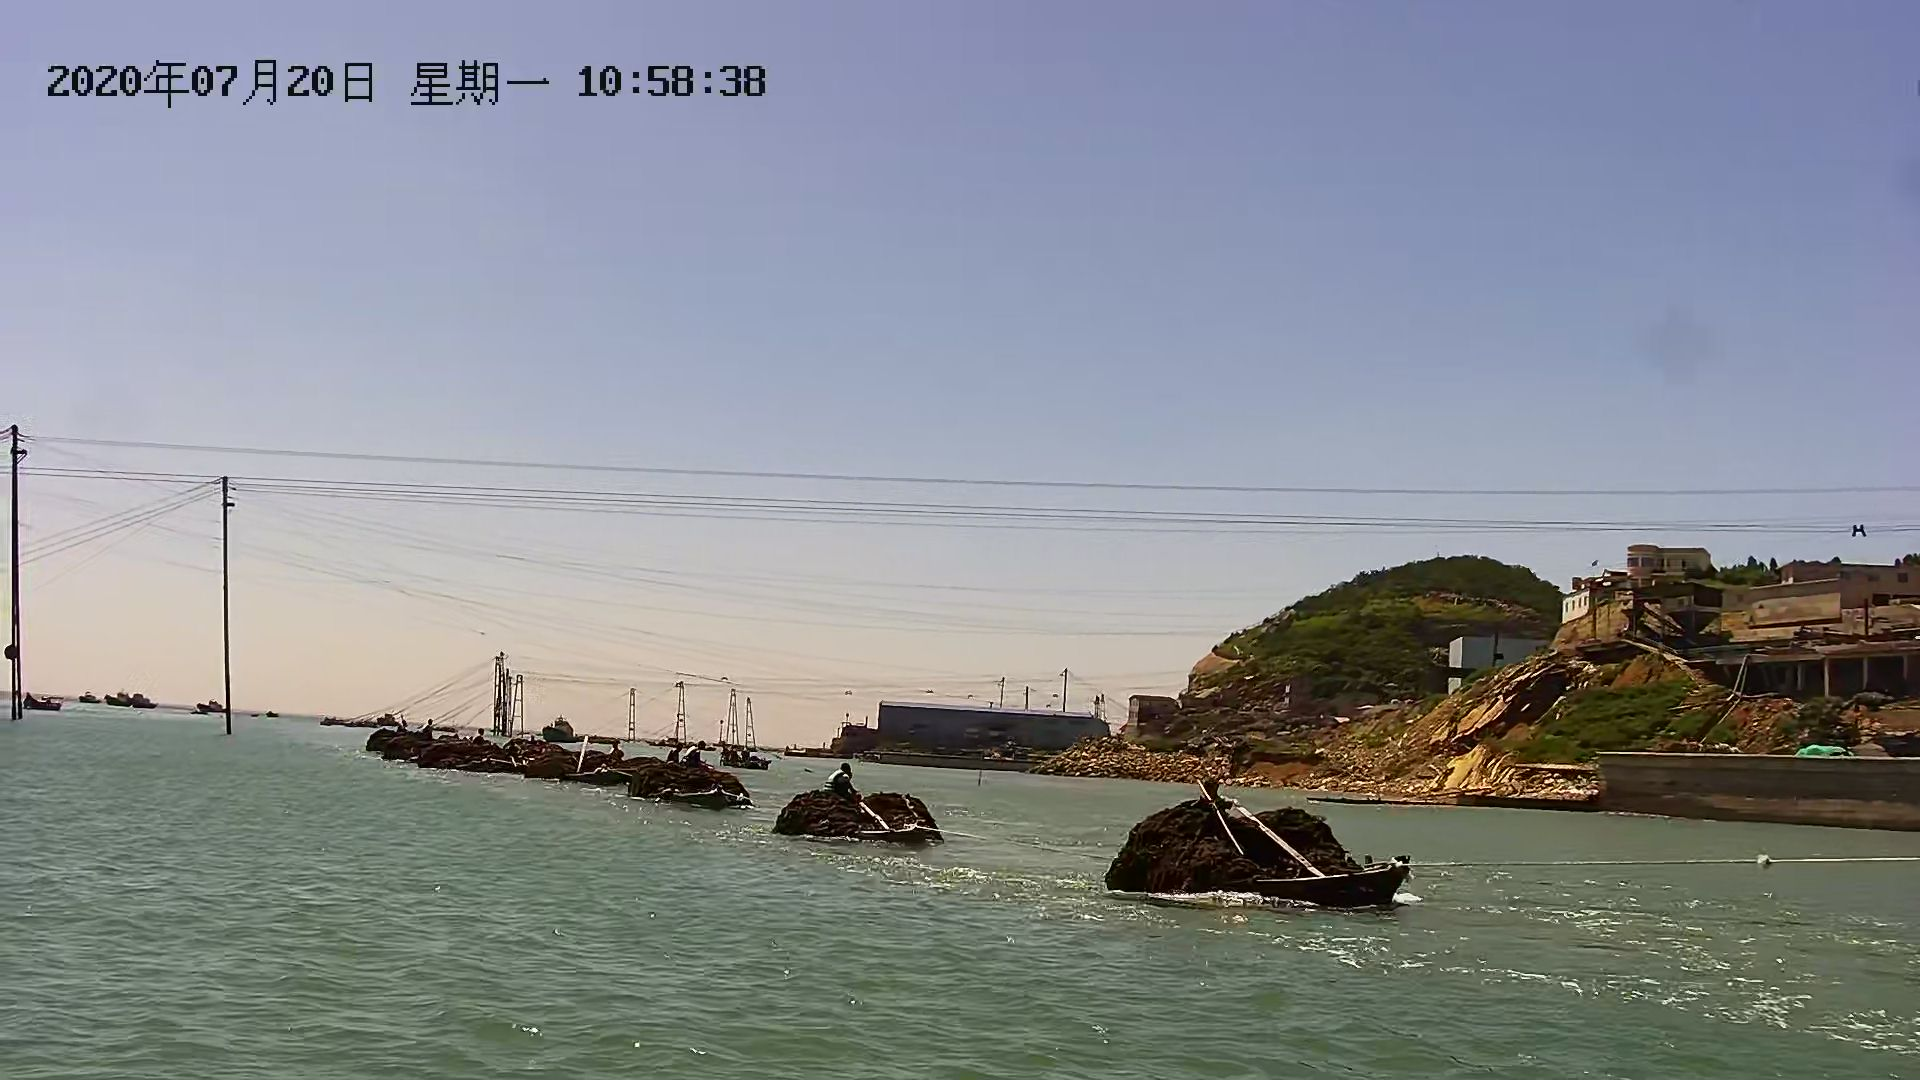mast: (212, 477, 239, 735), (6, 425, 28, 722)
person: (819, 760, 857, 798)
rubbish: (1115, 793, 1387, 907), (363, 723, 625, 787), (785, 778, 933, 841), (634, 756, 737, 804)
